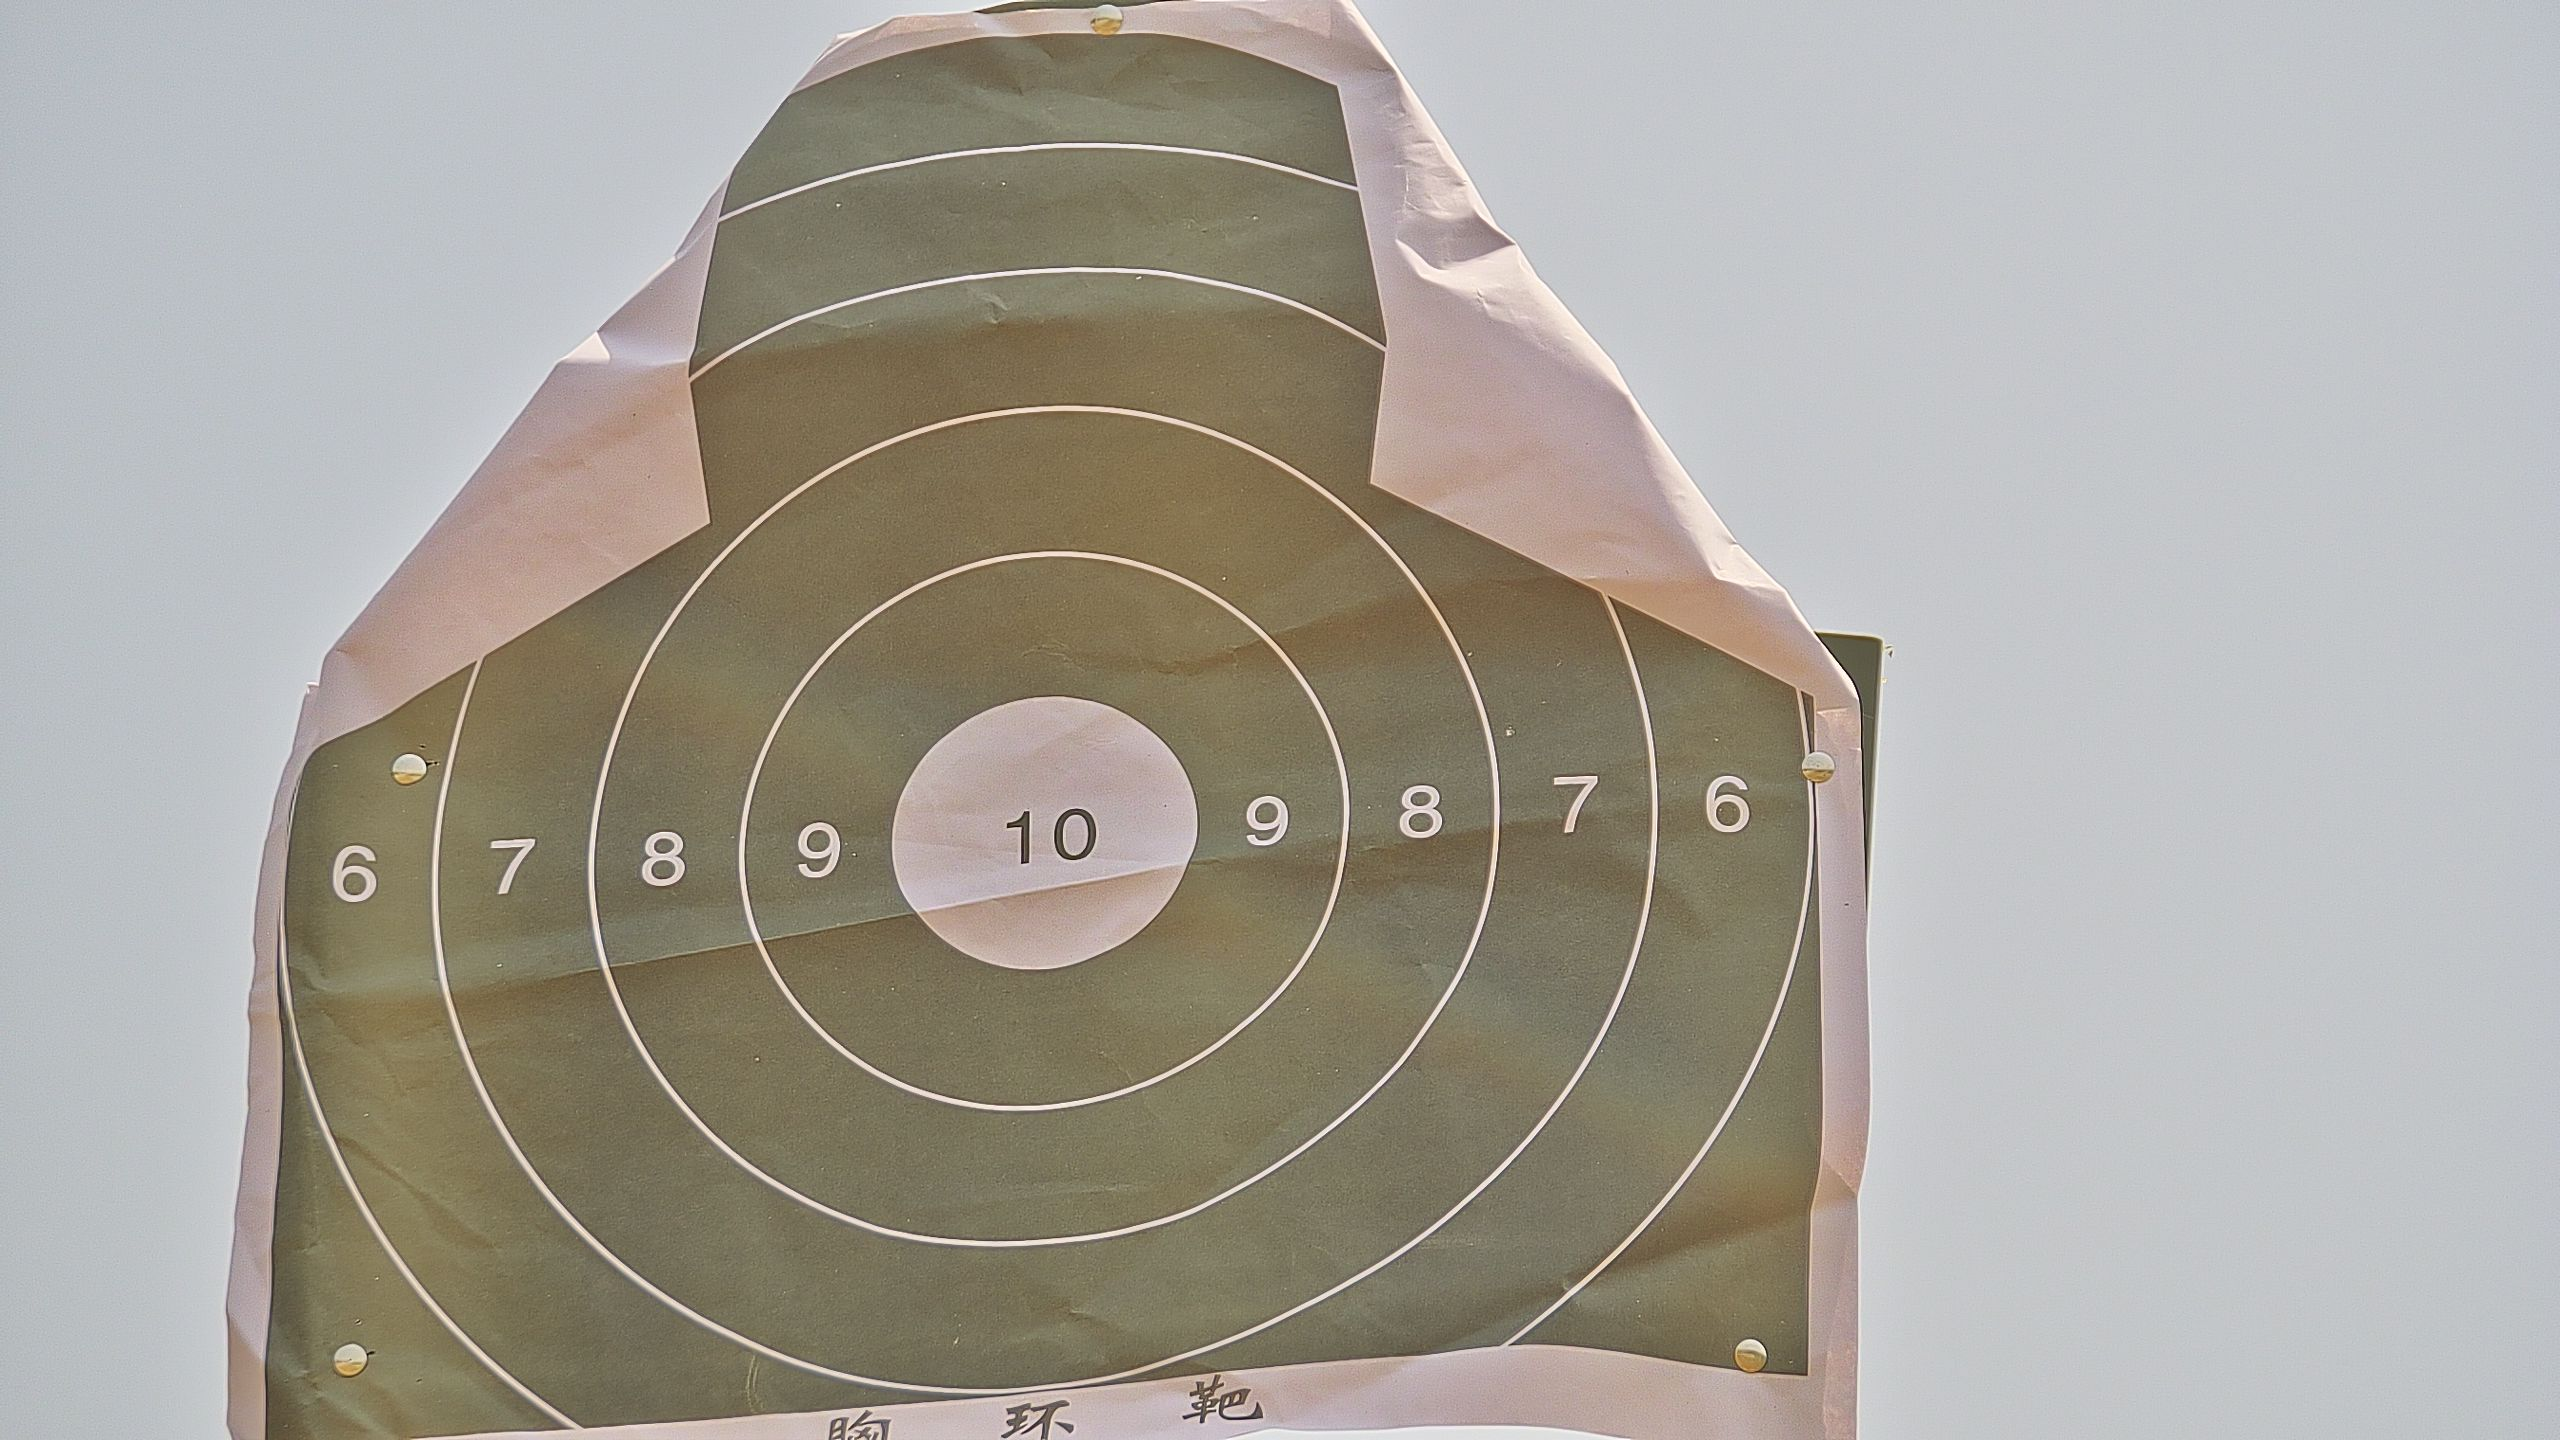target: (260, 37, 1827, 1440)
ten: (888, 689, 1199, 972)
